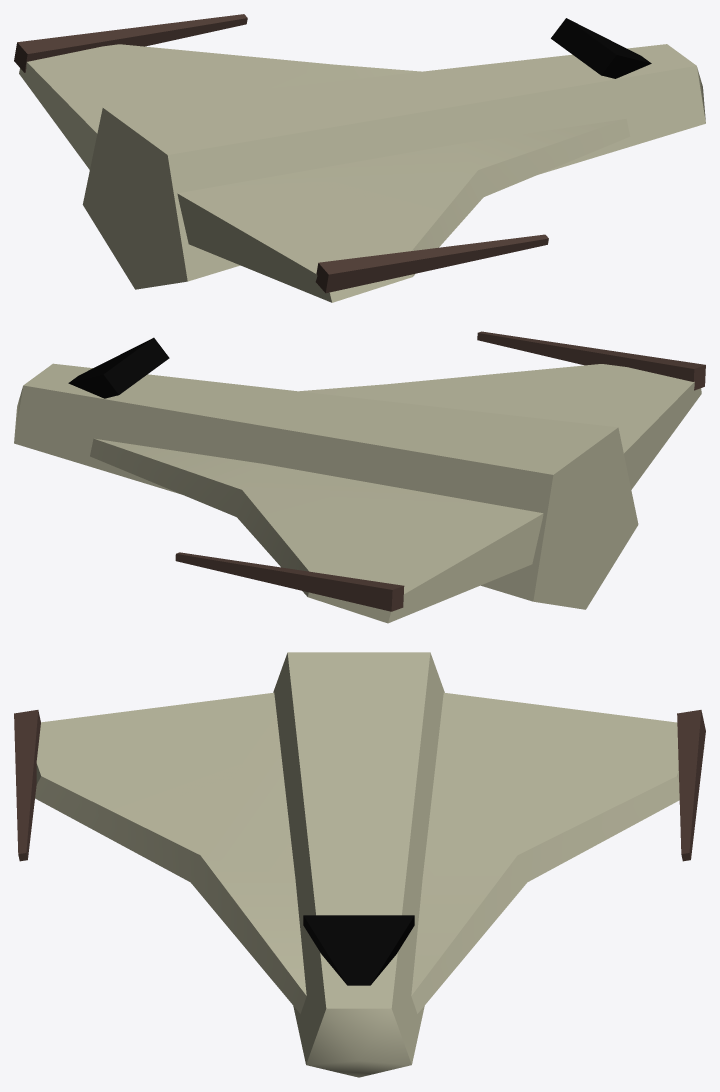
3 views of the same model, one above another, from view 1: azimuth 30°, elevation 25°; view 2: azimuth 150°, elevation 25°; view 3: azimuth 270°, elevation 25° (orthographic). The views are drawn at different scales.
Parts seen in each view (by area): view 1: pCube51; view 2: pCube51; view 3: pCube51.
Part boxes in pixels (<box>): pCube51: <box>14,14,705,302</box>; pCube51: <box>14,331,705,623</box>; pCube51: <box>14,652,705,1077</box>.
Bounding box in the file's own units: 1.62 × 0.4325 × 1.56.
